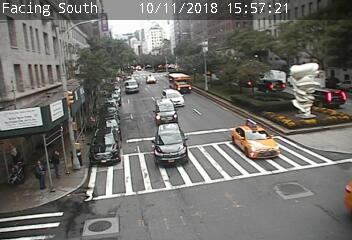car: (231, 126, 280, 159), (154, 123, 186, 164), (154, 98, 177, 124), (169, 74, 191, 93), (162, 89, 184, 107), (145, 76, 156, 83)
